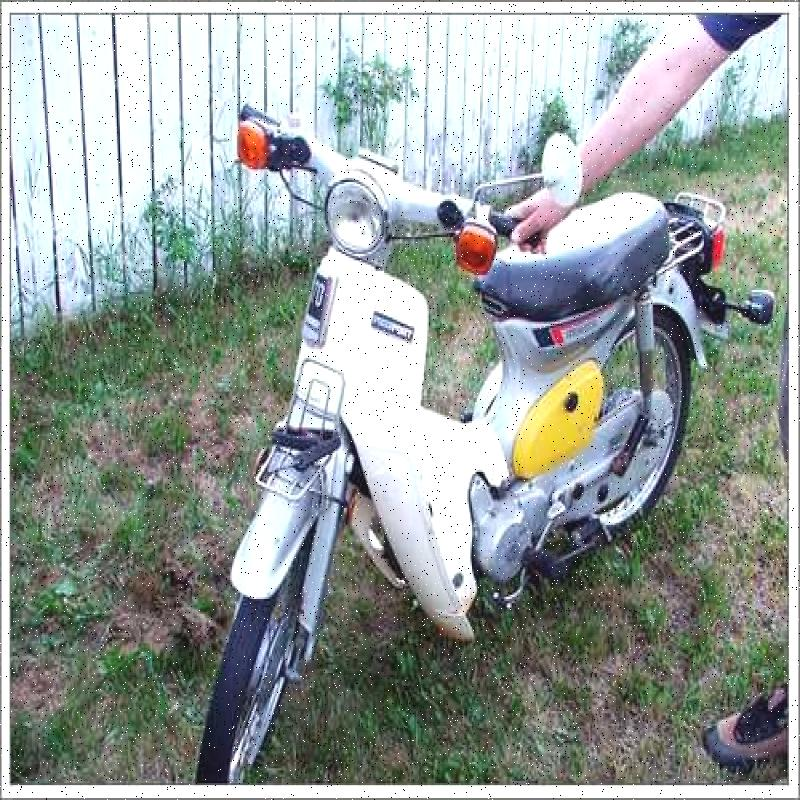bike: (171, 85, 799, 776)
